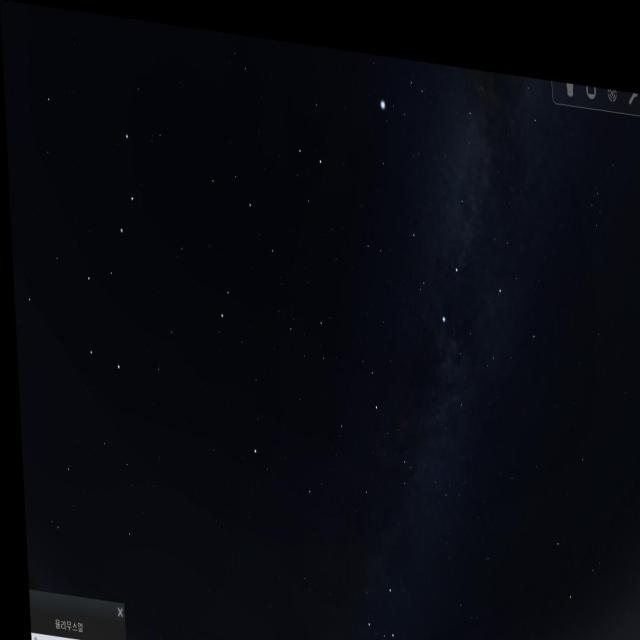cassiopeia: (306, 527, 423, 640)
cygnus: (400, 112, 503, 330)
ursa_major: (61, 104, 146, 384)
